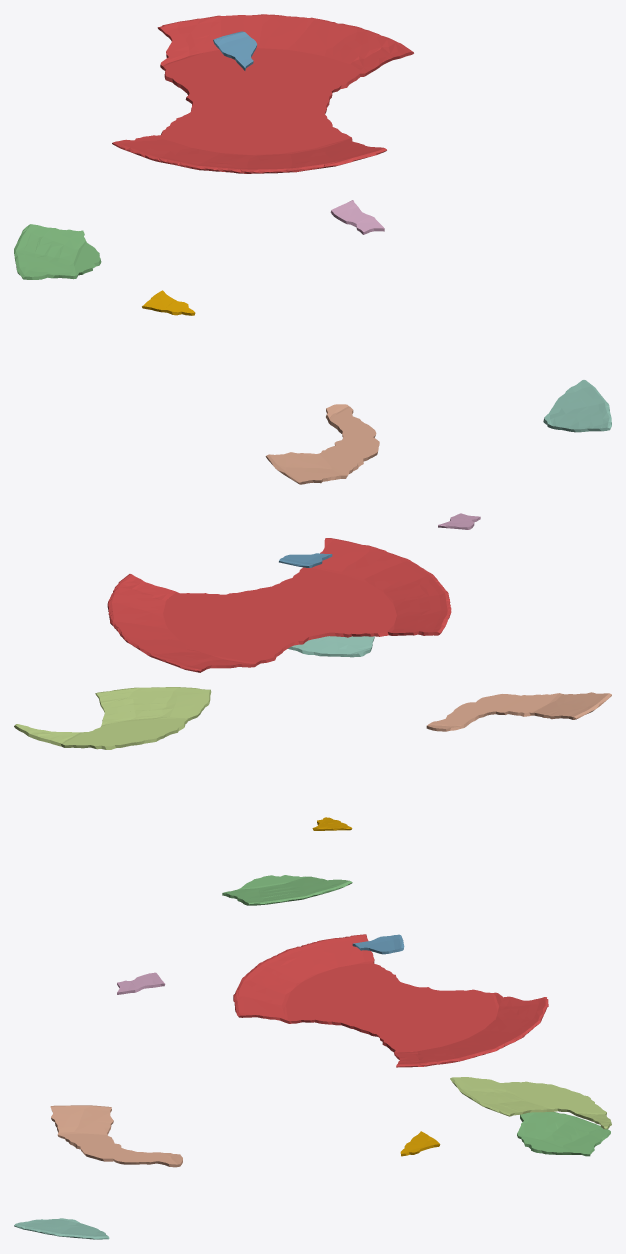
The model's file is fractured_2_8pcs_transformed.glb.
The picture shows the model from 3 angles, top to bottom: view 1: azimuth 30°, elevation 25°; view 2: azimuth 150°, elevation 25°; view 3: azimuth 270°, elevation 25°; orthographic projection. The views are drawn at different scales.
Visible parts, largest first — view 1: piece_1.obj, piece_7.obj, piece_3.obj, piece_4.obj, piece_2.obj, piece_6.obj, piece_0.obj; view 2: piece_1.obj, piece_5.obj, piece_7.obj, piece_3.obj, piece_4.obj, piece_2.obj; view 3: piece_1.obj, piece_5.obj, piece_7.obj, piece_3.obj, piece_4.obj, piece_2.obj, piece_6.obj, piece_0.obj.
Part boxes in pixels (left/top/right/bottom): piece_1.obj: left=112, top=14, right=413, bottom=173; piece_7.obj: left=265, top=404, right=379, bottom=484; piece_3.obj: left=14, top=224, right=101, bottom=279; piece_4.obj: left=543, top=380, right=611, bottom=432; piece_2.obj: left=213, top=31, right=257, bottom=70; piece_6.obj: left=330, top=200, right=384, bottom=234; piece_0.obj: left=142, top=290, right=195, bottom=315; piece_1.obj: left=107, top=538, right=451, bottom=672; piece_5.obj: left=14, top=687, right=211, bottom=749; piece_7.obj: left=426, top=692, right=611, bottom=731; piece_3.obj: left=222, top=875, right=352, bottom=905; piece_4.obj: left=288, top=636, right=374, bottom=657; piece_2.obj: left=279, top=553, right=332, bottom=567; piece_1.obj: left=233, top=934, right=548, bottom=1067; piece_5.obj: left=450, top=1077, right=611, bottom=1129; piece_7.obj: left=50, top=1105, right=182, bottom=1167; piece_3.obj: left=517, top=1112, right=610, bottom=1156; piece_4.obj: left=14, top=1218, right=109, bottom=1239; piece_2.obj: left=352, top=934, right=404, bottom=954; piece_6.obj: left=117, top=972, right=165, bottom=994; piece_0.obj: left=400, top=1131, right=440, bottom=1156.
Bounding box in the file's own units: 1 × 0.8078 × 1.9.
